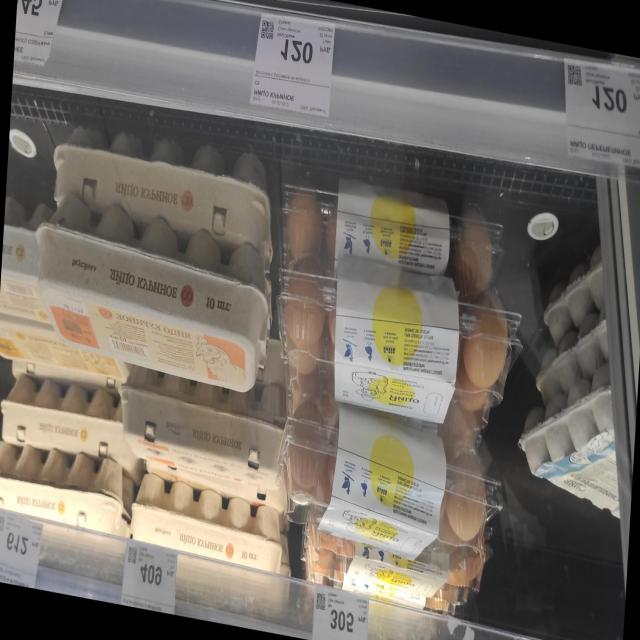organic waste: (39, 192, 274, 397)
